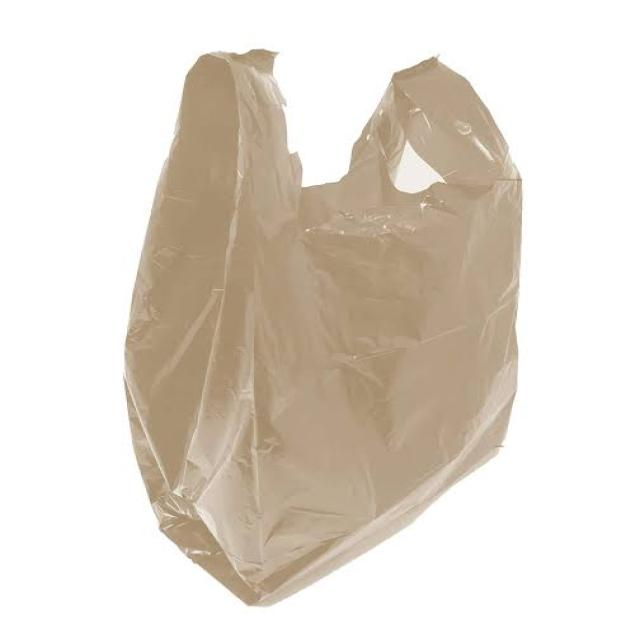residual: (117, 27, 546, 622)
